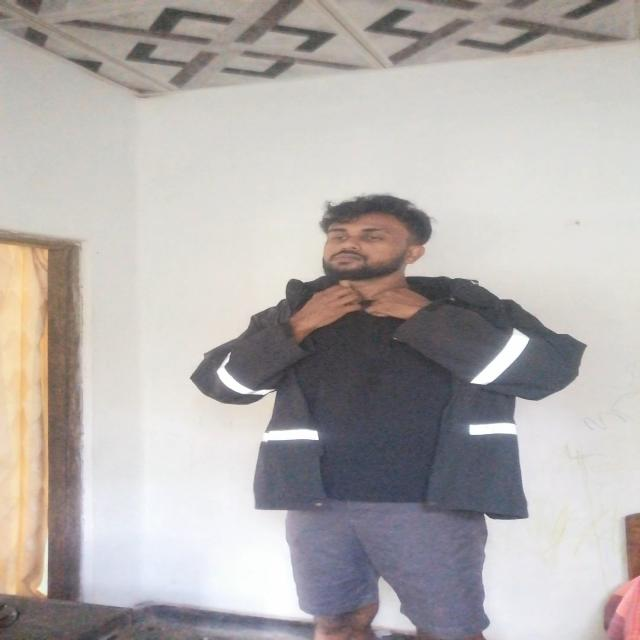Jacket_Wearer: (209, 263, 595, 515)
Person: (212, 183, 579, 640)
